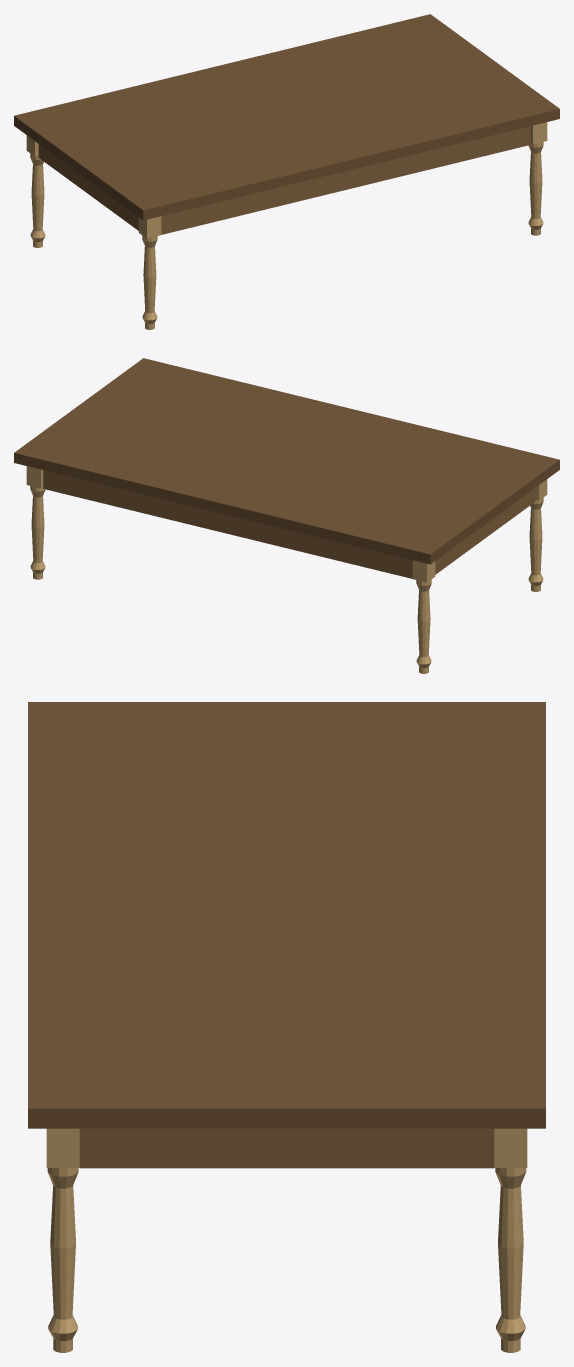
The model's file is FET-COF-long.glb.
3 views of the same model, one above another, from view 1: azimuth 30°, elevation 25°; view 2: azimuth 150°, elevation 25°; view 3: azimuth 270°, elevation 25° (orthographic). The views are drawn at different scales.
Visible parts, largest first — view 1: top:pbr, apron-f:pbr, leg-fl:pbr, apron-l:pbr, leg-fr:pbr, leg-bl:pbr; view 2: top:pbr, apron-b:pbr, leg-bl:pbr, apron-l:pbr, leg-br:pbr, leg-fl:pbr; view 3: top:pbr, apron-r:pbr, leg-fr:pbr, leg-br:pbr.
Boxes of the visible parts, bbox=[...] form: top:pbr: bbox=[14, 14, 559, 220]; apron-f:pbr: bbox=[161, 126, 530, 234]; leg-fl:pbr: bbox=[138, 216, 161, 329]; apron-l:pbr: bbox=[38, 144, 138, 230]; leg-fr:pbr: bbox=[528, 122, 547, 235]; leg-bl:pbr: bbox=[26, 135, 45, 247]; top:pbr: bbox=[14, 358, 559, 564]; apron-b:pbr: bbox=[43, 470, 412, 578]; leg-bl:pbr: bbox=[412, 560, 435, 673]; apron-l:pbr: bbox=[435, 488, 535, 574]; leg-br:pbr: bbox=[26, 466, 45, 579]; leg-fl:pbr: bbox=[528, 479, 547, 591]; top:pbr: bbox=[28, 702, 545, 1128]; apron-r:pbr: bbox=[79, 1128, 494, 1168]; leg-fr:pbr: bbox=[46, 1128, 79, 1352]; leg-br:pbr: bbox=[494, 1128, 527, 1352].
Bounding box in the file's own units: 1.3 × 0.38 × 0.7.
